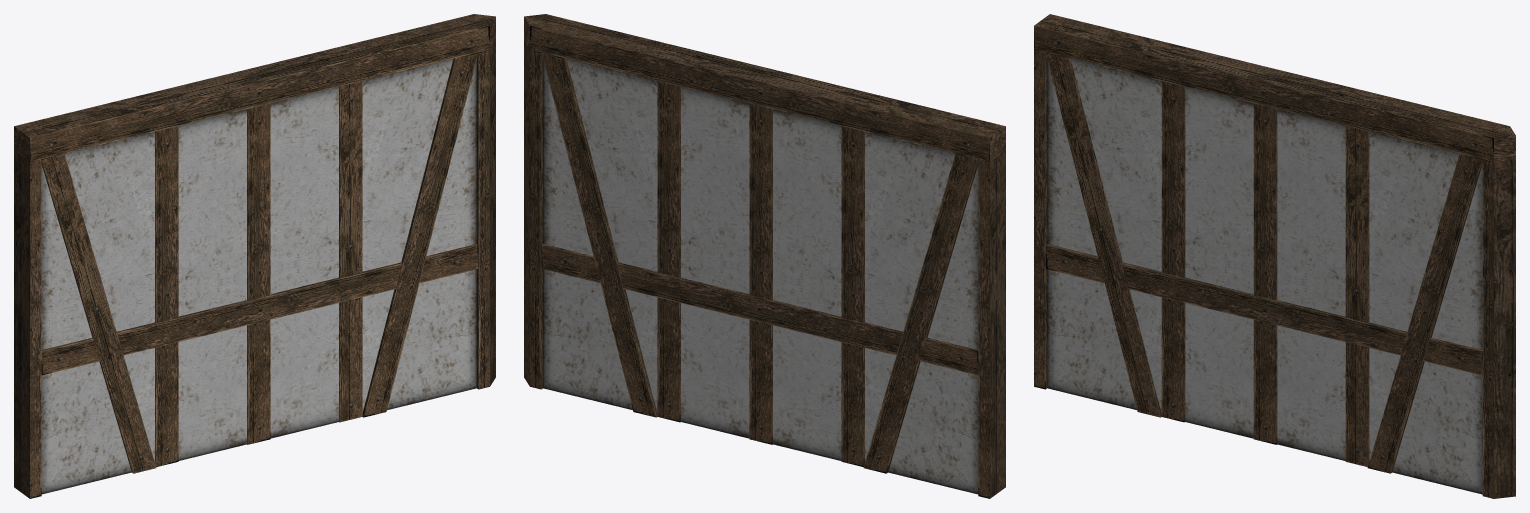
Rendered from timberWall_upper.dae.
3 views of the same model, side by side, from view 1: azimuth 30°, elevation 25°; view 2: azimuth 150°, elevation 25°; view 3: azimuth 330°, elevation 25° (orthographic).
Parts seen in each view (by area): view 1: TimberWall_up; view 2: TimberWall_up; view 3: TimberWall_up.
Boxes of the visible parts, x1,y1,x2,y2 form: TimberWall_up: [14, 14, 495, 498]; TimberWall_up: [524, 14, 1005, 498]; TimberWall_up: [1034, 14, 1515, 498].
Bounding box in the file's own units: 4.12 × 3 × 0.24.
1 material, 1 textured.
